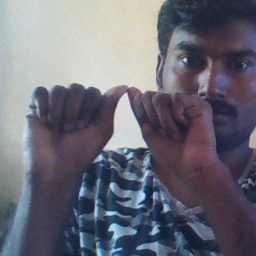A: (52, 80, 188, 165)
